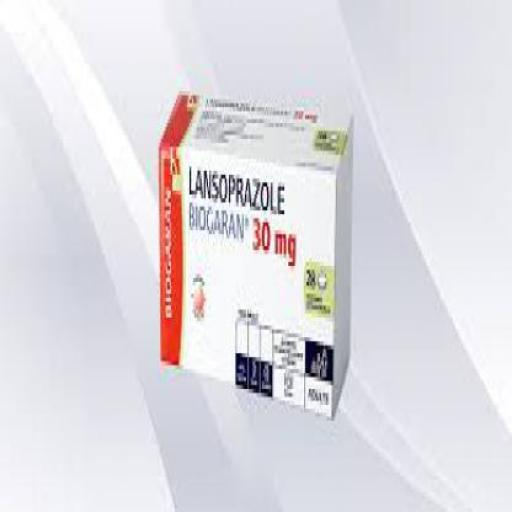cardboard: (158, 88, 353, 418)
